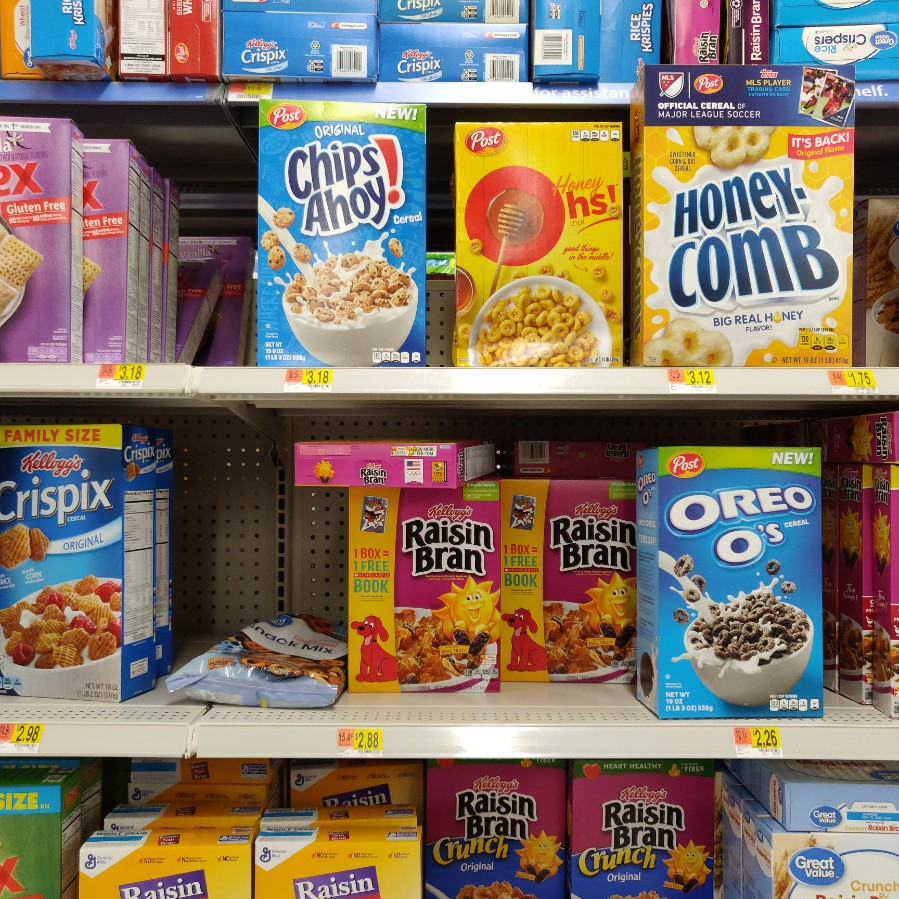Chips Ahoys-565717529: (259, 95, 427, 368)
Honey Comb- 009288857: (648, 66, 851, 364)
Oreo-563424384: (650, 444, 823, 717)
